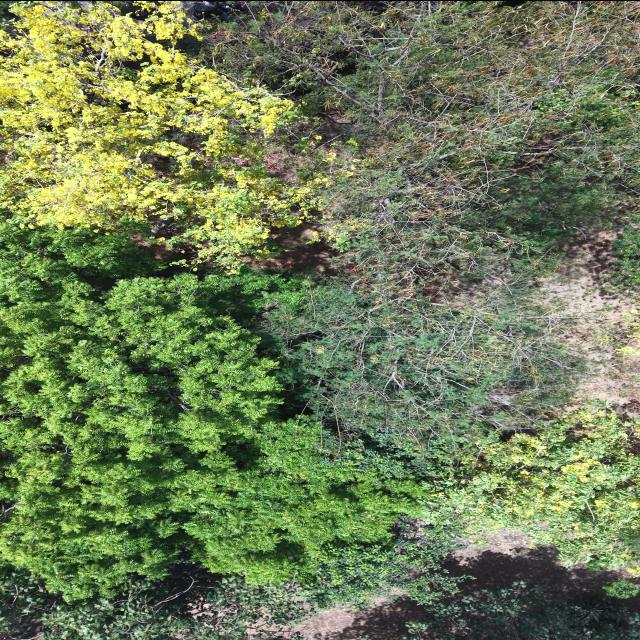DRY_AREA: (539, 228, 639, 417), (539, 228, 639, 416), (540, 229, 639, 417), (540, 229, 639, 416), (541, 229, 639, 417), (541, 230, 639, 413), (443, 531, 625, 599), (443, 530, 627, 597), (443, 545, 627, 597), (244, 597, 423, 639), (284, 598, 423, 639), (240, 221, 337, 273), (240, 222, 337, 273), (241, 222, 337, 273), (451, 529, 530, 564)
VEGETATION_TREE: (0, 1, 639, 639), (2, 222, 545, 604), (225, 2, 637, 452), (2, 1, 636, 262), (1, 223, 418, 598), (2, 416, 636, 639), (216, 1, 639, 248), (1, 1, 333, 267), (265, 199, 592, 457), (265, 276, 589, 454), (0, 521, 457, 639), (385, 406, 639, 570), (446, 407, 639, 569), (0, 566, 313, 639), (296, 516, 462, 608), (399, 583, 639, 639), (605, 219, 639, 293), (602, 579, 639, 598)
